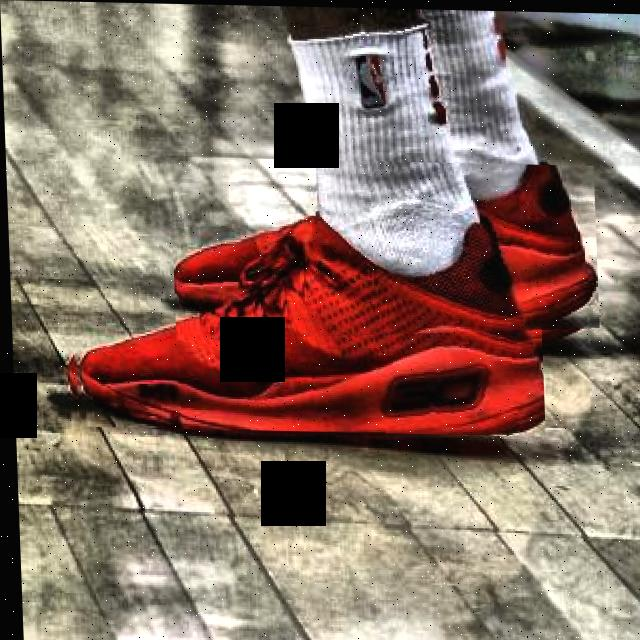shoe: (56, 210, 542, 434), (168, 156, 598, 347)
